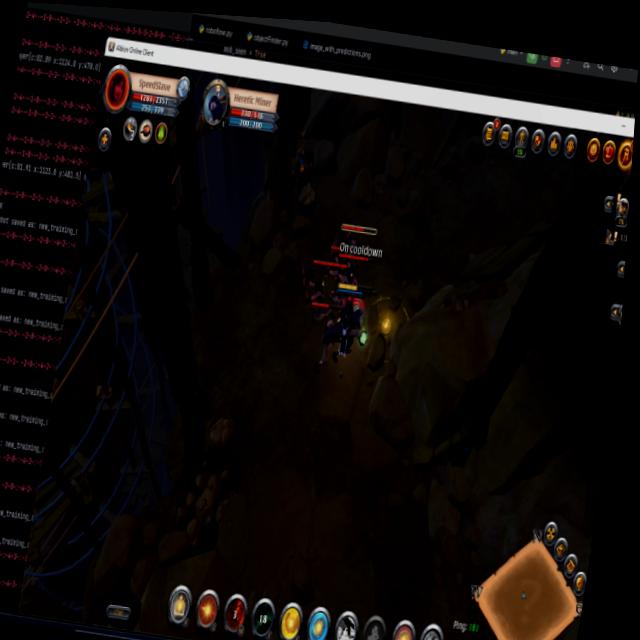ore: (292, 250, 348, 335), (301, 297, 352, 379), (326, 217, 379, 284)
red: (325, 277, 379, 363)
